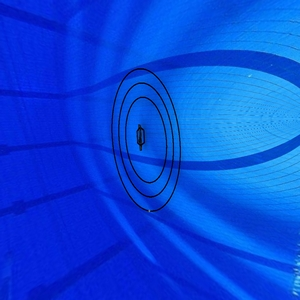circle: (108, 64, 189, 218)
submarine: (132, 120, 147, 157)
